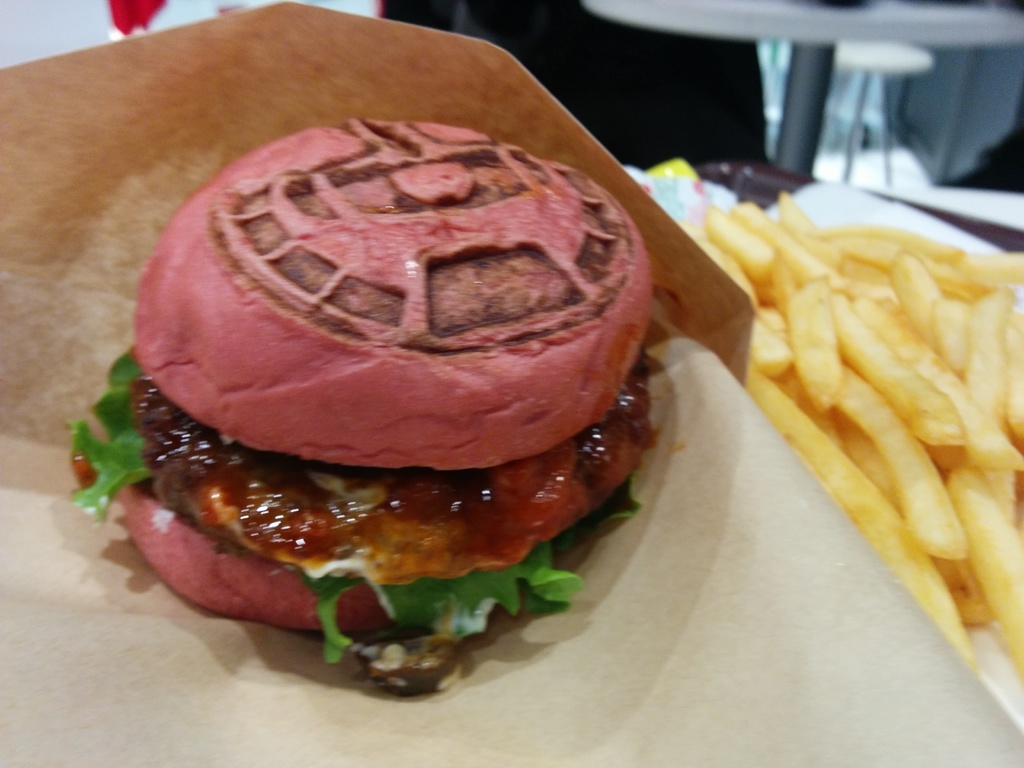French fries: (690, 188, 1023, 634)
